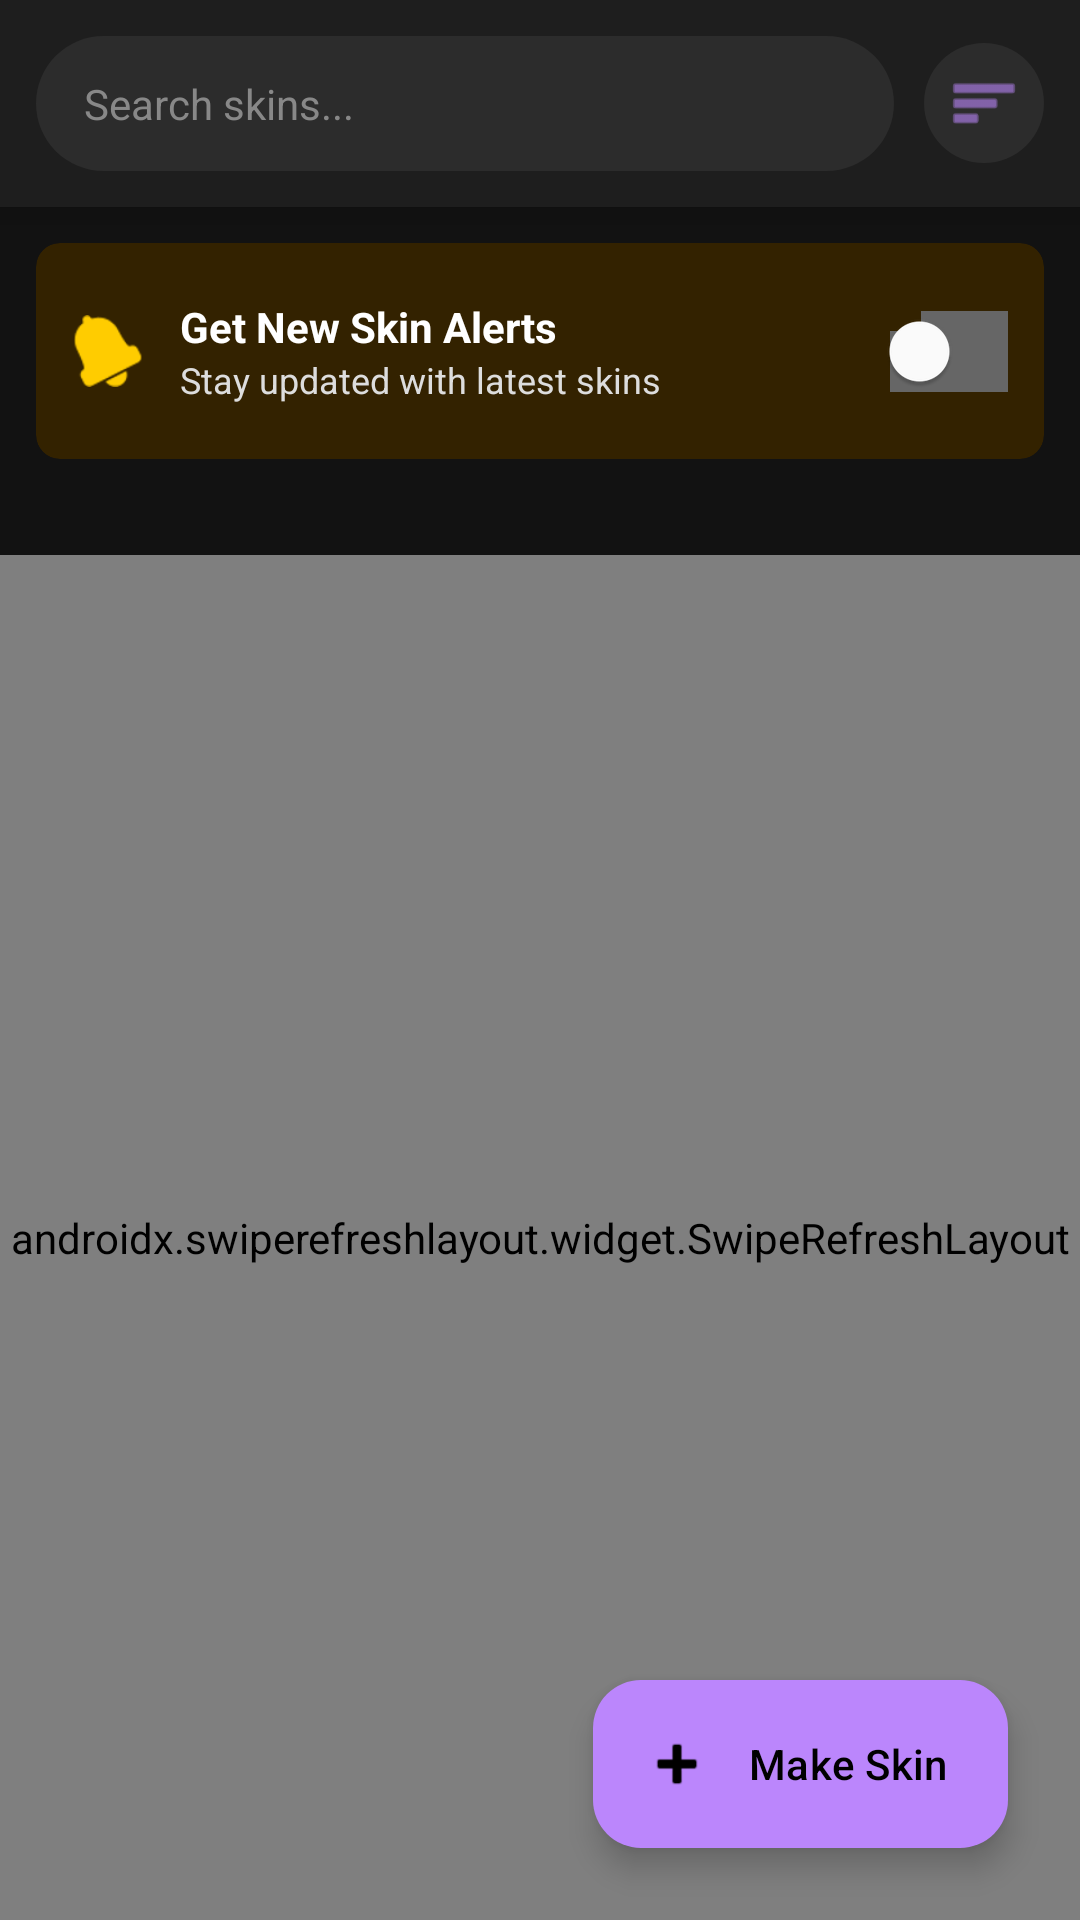

Icons on this 1080w x 1920h Android screen, each with its box as (x1, y1, x2, y2):
popup reminder: (74, 315, 142, 387)
Sort: (953, 83, 1015, 124)
